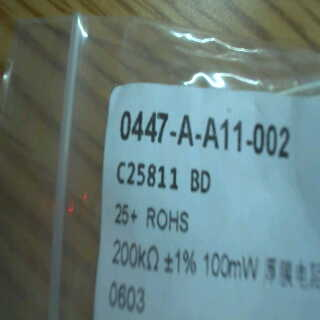200kR: (106, 240, 158, 269)
